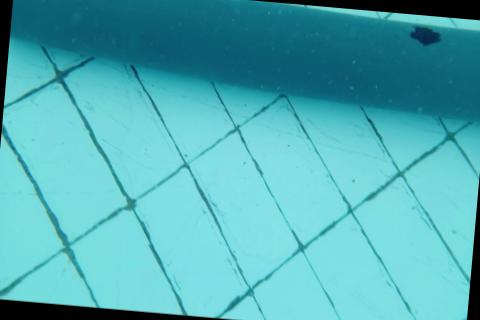kebocoran: (408, 24, 442, 49)
